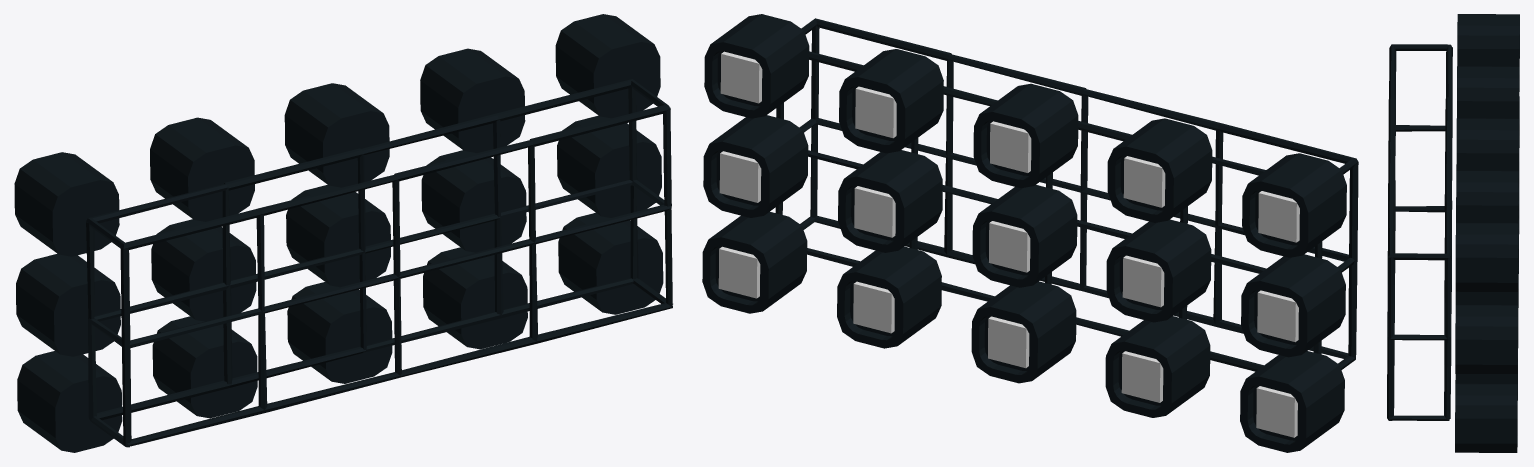
The model's file is SM_SpotLight.fbx.
3 views of the same model, side by side, from view 1: azimuth 30°, elevation 25°; view 2: azimuth 150°, elevation 25°; view 3: azimuth 270°, elevation 25° (orthographic). The views are drawn at different scales.
Parts seen in each view (by area): view 1: SM_SpotLight; view 2: SM_SpotLight; view 3: SM_SpotLight.
Boxes of the visible parts, x1,y1,x2,y2 form: SM_SpotLight: (14,14,672,452); SM_SpotLight: (702,14,1358,452); SM_SpotLight: (1387,14,1519,452).
Size of the model in its own units: 1943 by 834 by 451.
